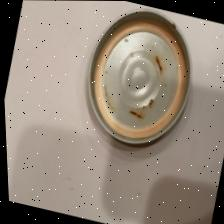metal: (62, 0, 223, 172)
